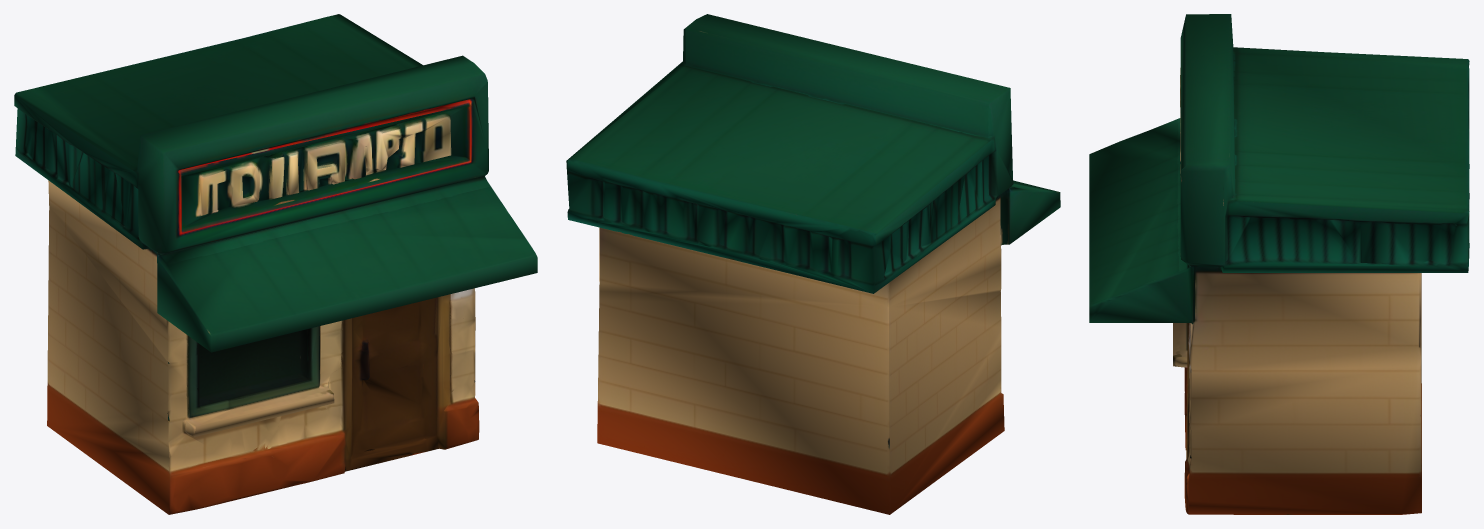
Rendered from kiosk3.fbx.
The picture shows the model from 3 angles, left to right: view 1: azimuth 30°, elevation 25°; view 2: azimuth 150°, elevation 25°; view 3: azimuth 270°, elevation 25°; orthographic projection. The views are drawn at different scales.
Parts seen in each view (by area): view 1: tmpokdnafqk.ply; view 2: tmpokdnafqk.ply; view 3: tmpokdnafqk.ply.
Boxes of the visible parts, x1,y1,x2,y2 form: tmpokdnafqk.ply: (14, 14, 537, 514); tmpokdnafqk.ply: (566, 14, 1060, 514); tmpokdnafqk.ply: (1089, 14, 1469, 514).
Size of the model in its own units: 187 by 198 by 192.
1 material, 1 textured.
